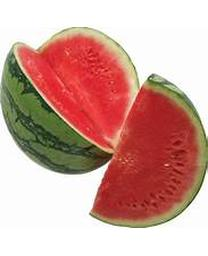watermelon: (1, 28, 140, 175), (86, 70, 206, 228)
